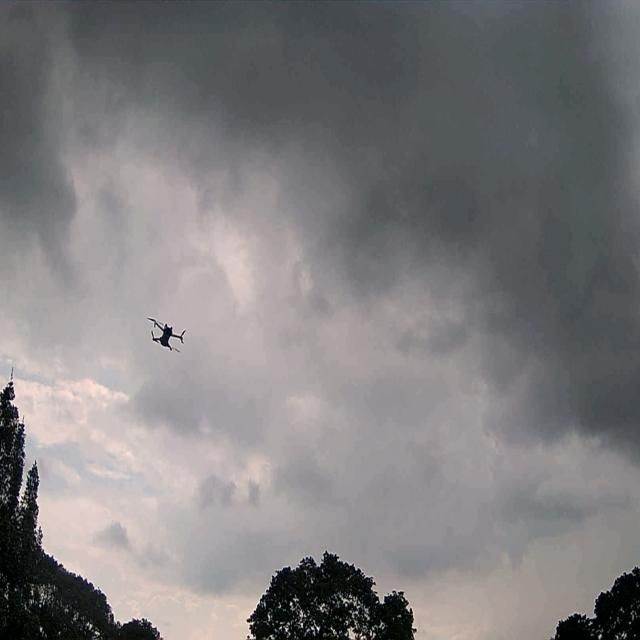drone: (147, 317, 186, 353)
